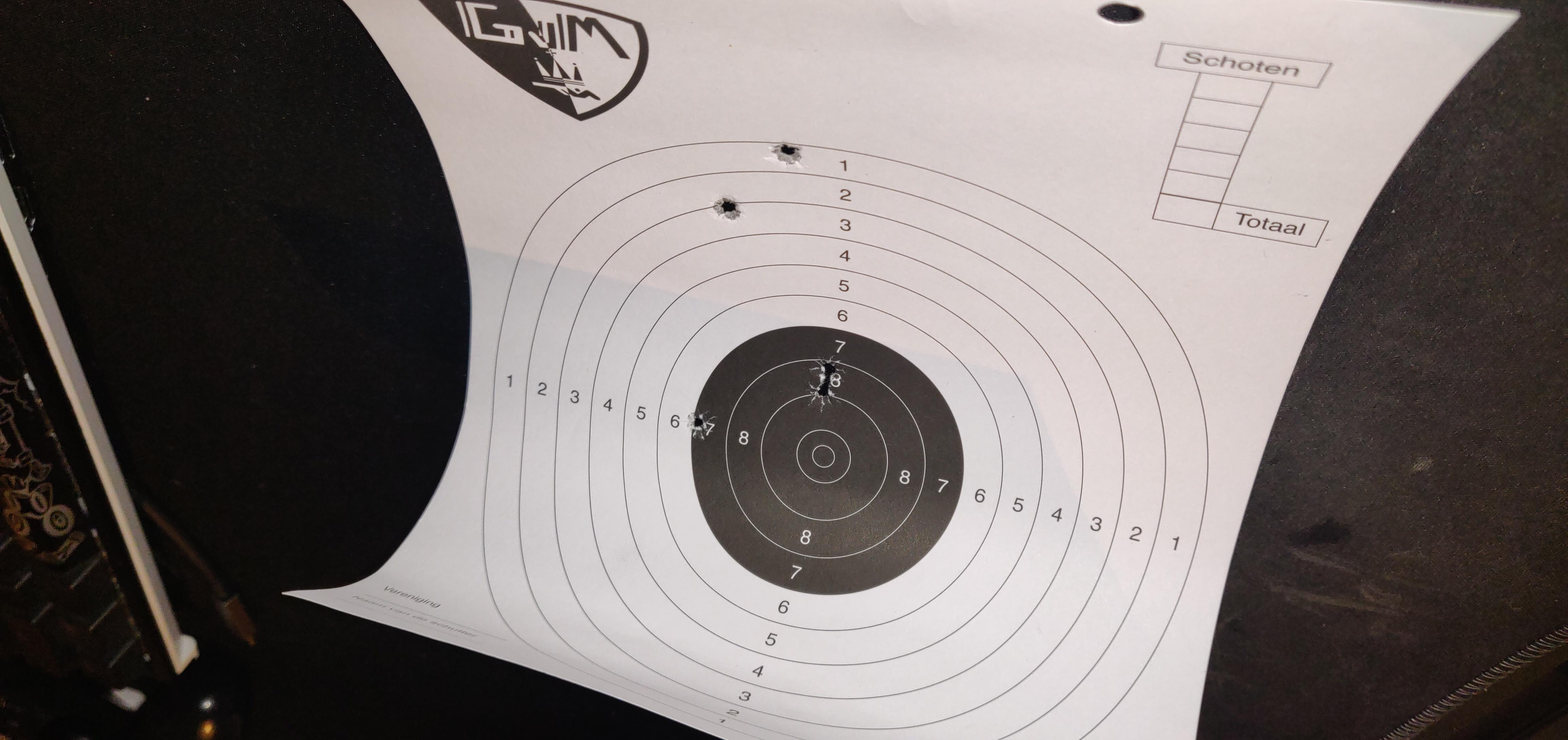hole: (853, 299, 890, 338), (762, 570, 802, 601), (824, 519, 857, 543), (732, 333, 761, 359), (724, 362, 758, 382)
